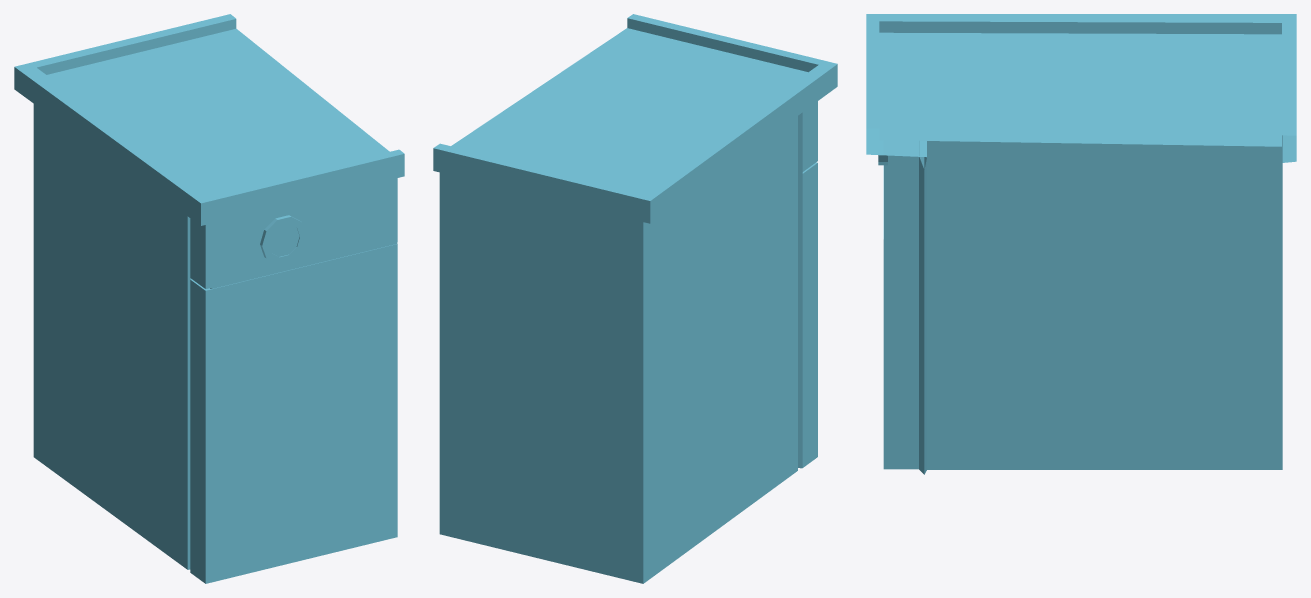
3 renders of one model, left to right at view 1: azimuth 30°, elevation 25°; view 2: azimuth 150°, elevation 25°; view 3: azimuth 270°, elevation 25°, orthographic. The views are drawn at different scales.
Parts seen in each view (by area): view 1: polySurface5; view 2: polySurface5; view 3: polySurface5.
Part boxes in pixels (x1,y1,x2,y2): polySurface5: [14, 14, 404, 583]; polySurface5: [433, 14, 837, 583]; polySurface5: [866, 14, 1296, 474].
Bounding box in the file's own units: 2.85 × 4.89 × 4.26.
